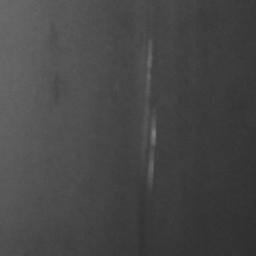Bright scratch: (147, 113, 157, 189)
